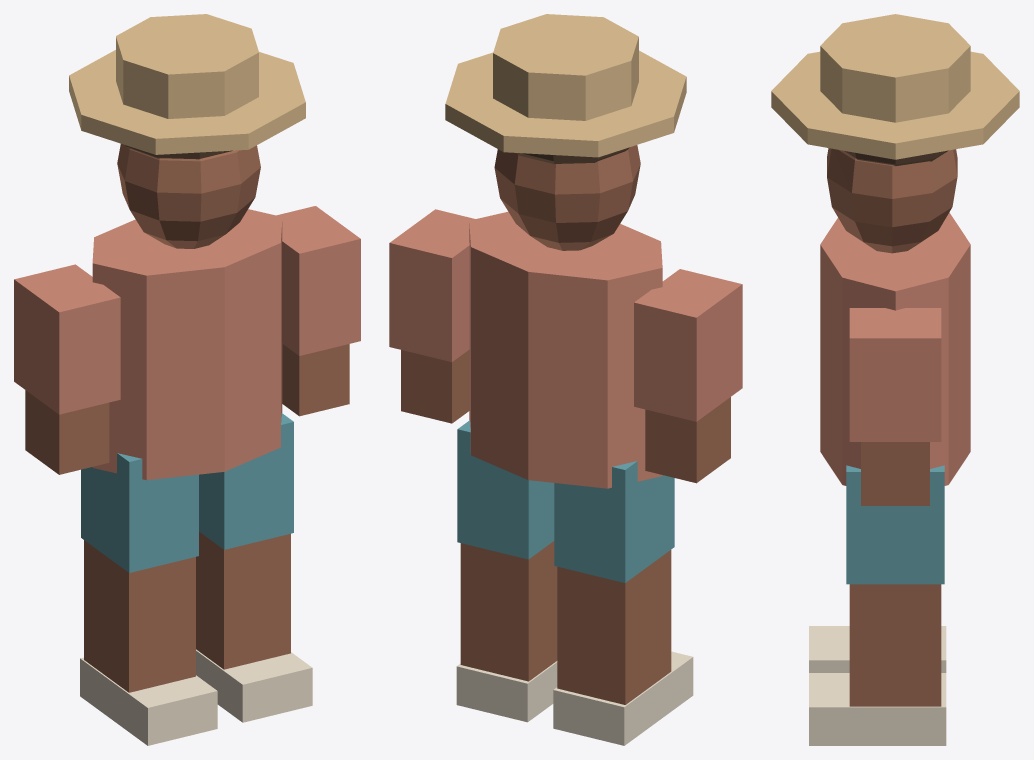
The model's file is character-beachgoer.obj.
The picture shows the model from 3 angles, left to right: view 1: azimuth 30°, elevation 25°; view 2: azimuth 150°, elevation 25°; view 3: azimuth 270°, elevation 25°; orthographic projection.
Visible parts, largest first — view 1: character-beachgoer; view 2: character-beachgoer; view 3: character-beachgoer.
Part boxes in pixels (bbox=[...]): character-beachgoer: bbox=[14, 14, 360, 745]; character-beachgoer: bbox=[389, 14, 742, 745]; character-beachgoer: bbox=[771, 14, 1019, 745].
Bounding box in the file's own units: 1.08 × 2.23 × 0.76.
